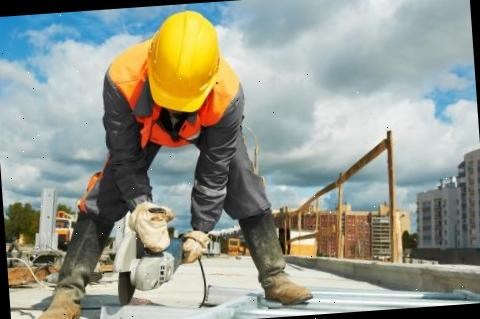helmet: (140, 8, 226, 114)
